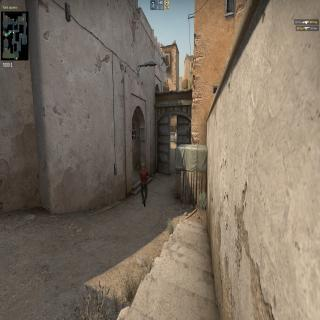T-Head: (141, 162, 145, 170)
